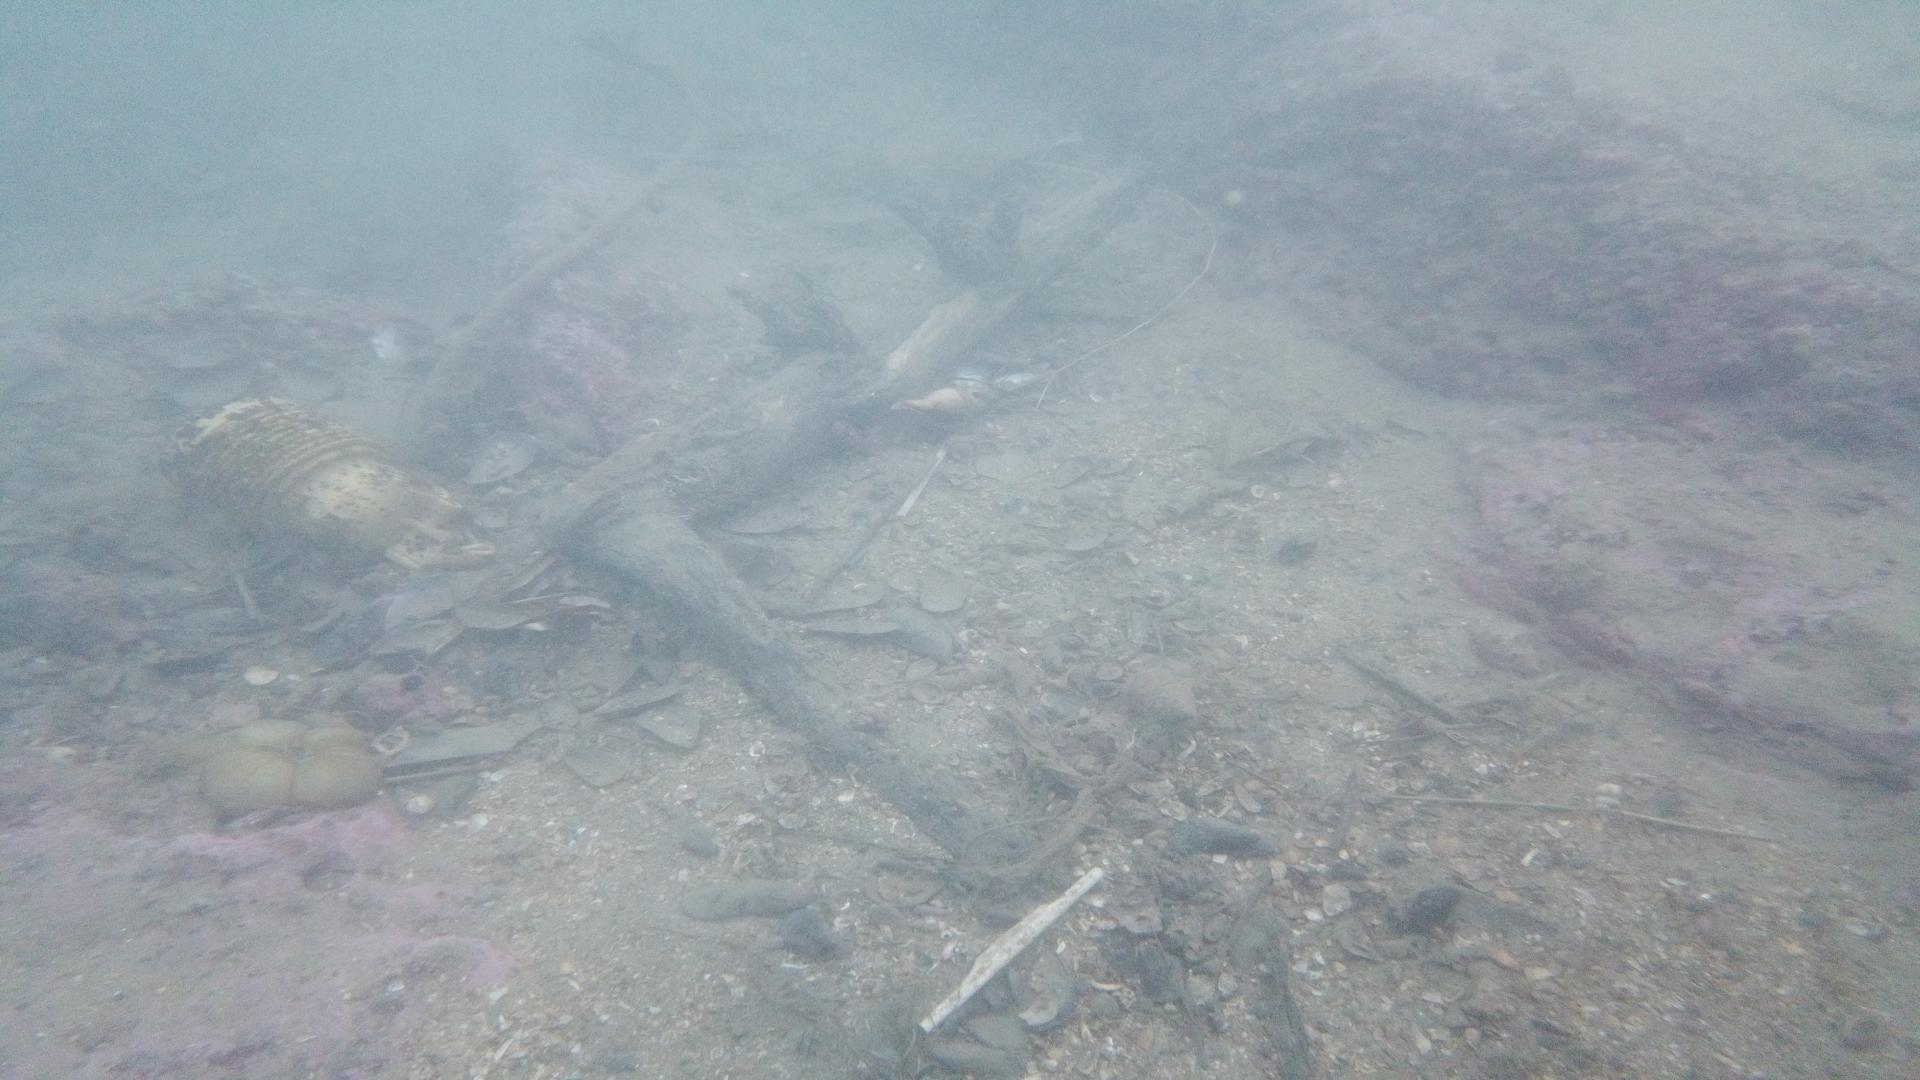rope: (401, 36, 699, 419)
wood: (529, 156, 1156, 864)
